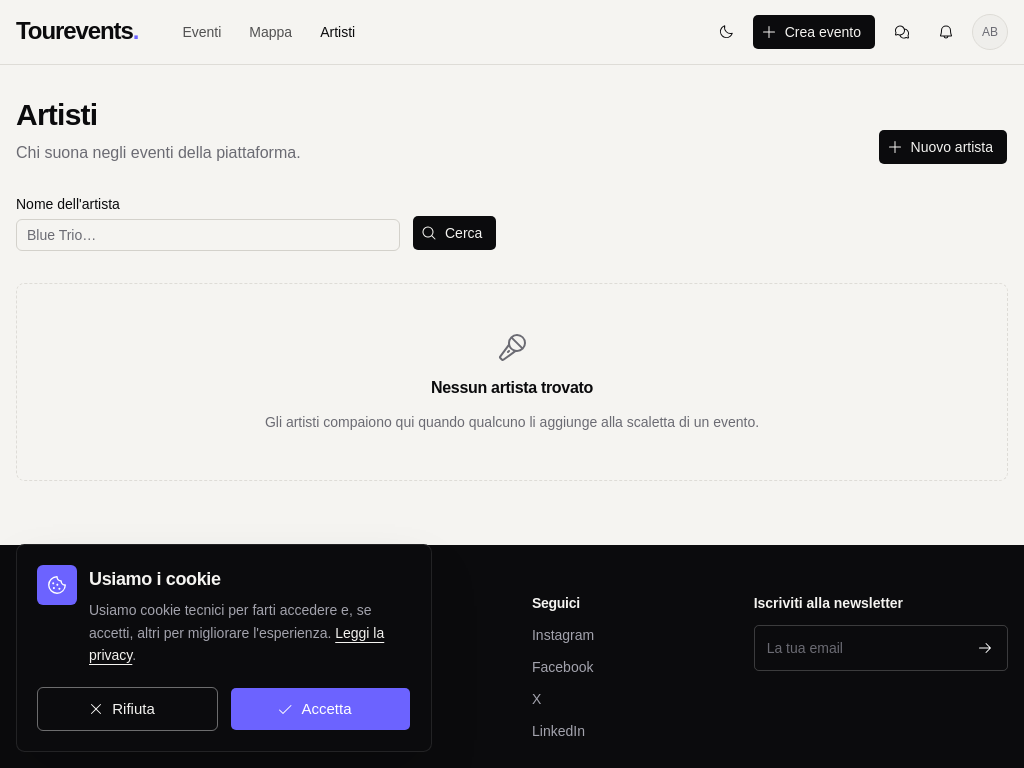
it: ArtistsPage › validazione e 409: errori sotto i campi, il dialog resta aperto
Click the button "Nuovo artista" at (943, 147), box [878,129,1008,165]
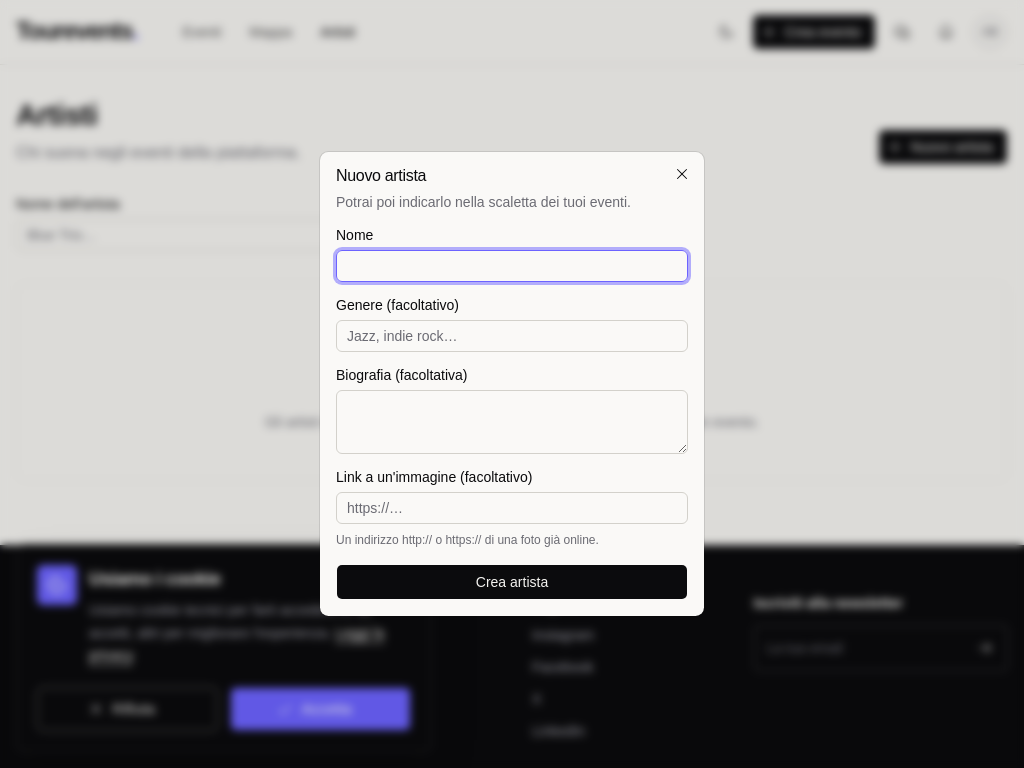
Type "javascript:alert(1)" into the field labelled "Link a un'immagine (facoltativo)" at (512, 508), box [336,492,688,524]
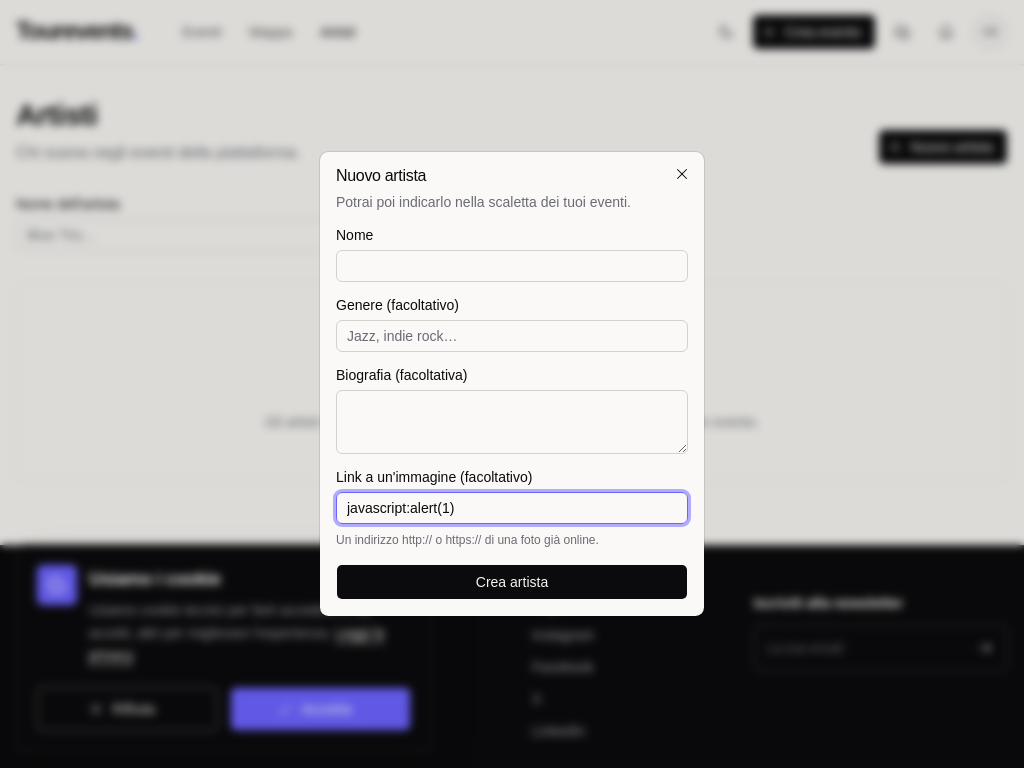
Click the button "Crea artista" at (512, 582), box [336,564,688,600]
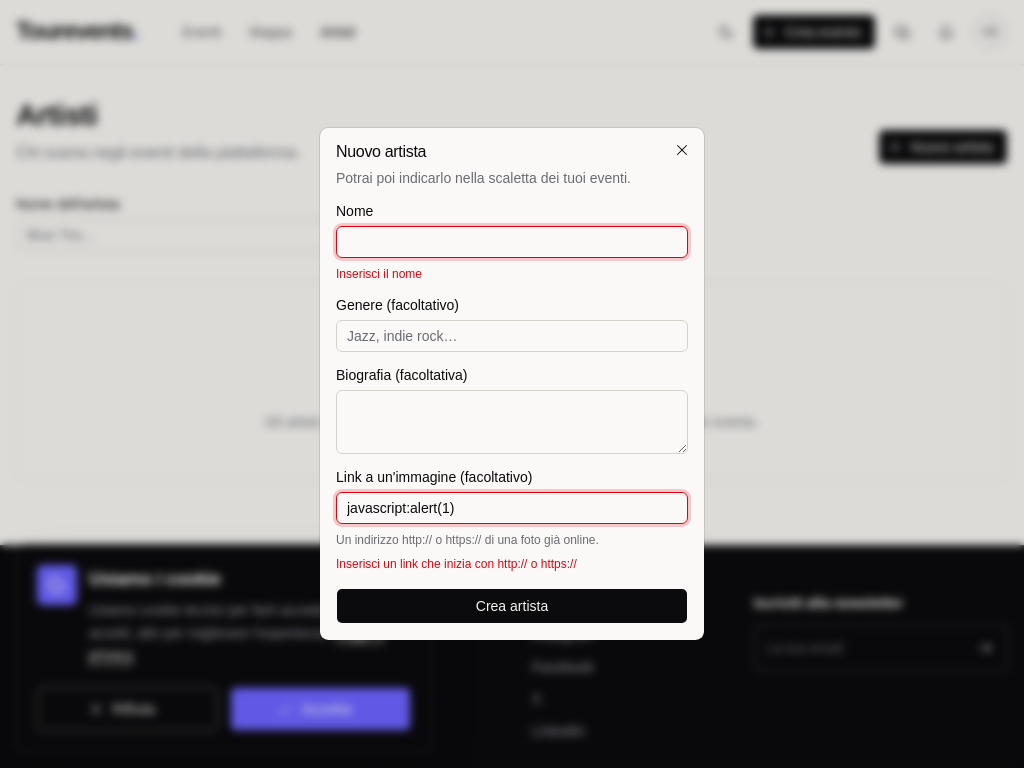
Check: the text "Inserisci il nome" is shown, box [336,267,422,281]
Check: the text "Inserisci un link che inizia con http:// o https://" is shown, box [336,557,577,571]
Clear the field labelled "Link a un'immagine (facoltativo)" at (512, 508), box [336,492,688,524]
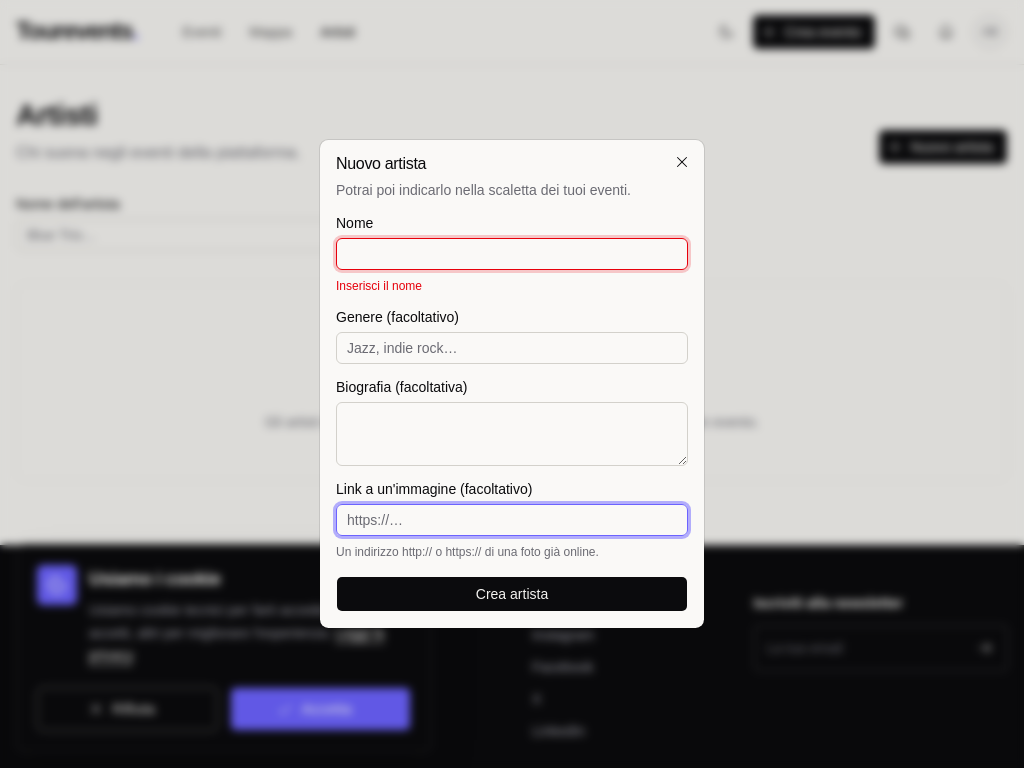
Type "Blue Trio" into the field labelled "Nome" at (512, 254), box [336,238,688,270]
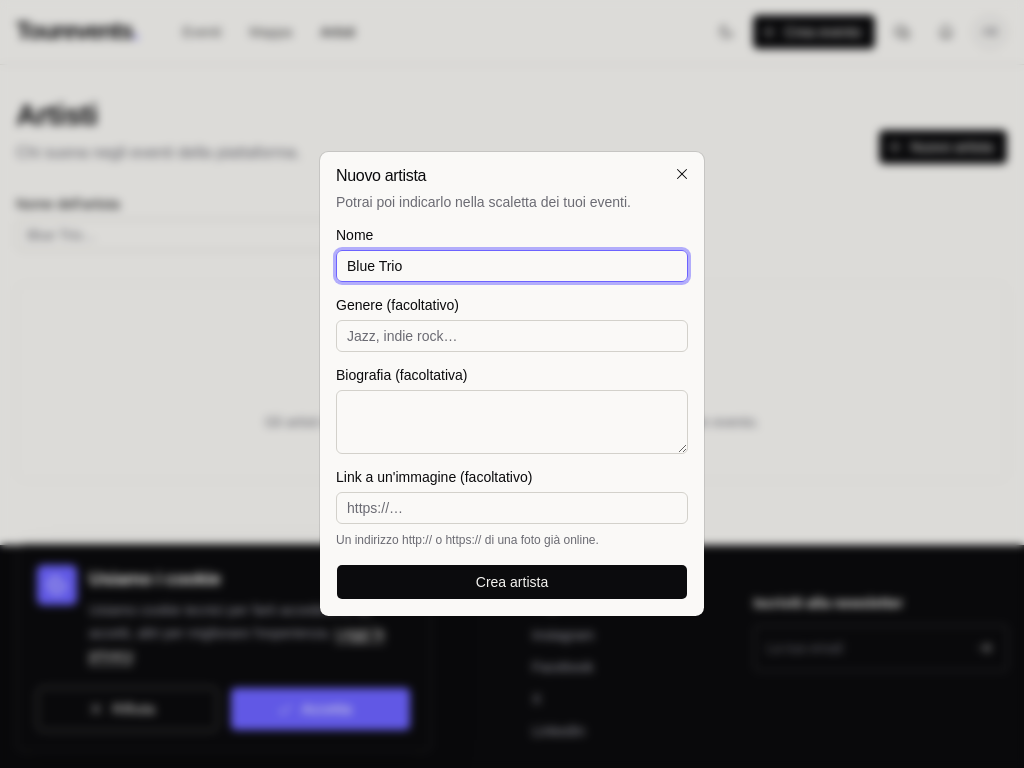
Click the button "Crea artista" at (512, 582), box [336,564,688,600]
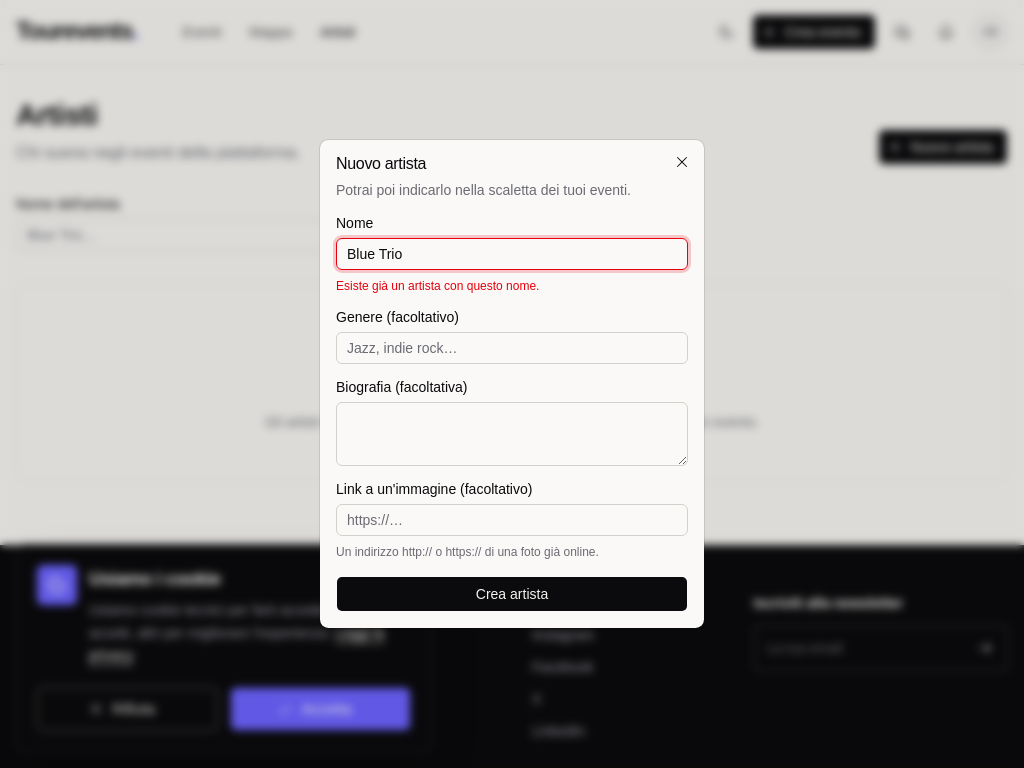
Check: the text "Esiste già un artista con questo nome." is shown, box [336,279,540,293]
